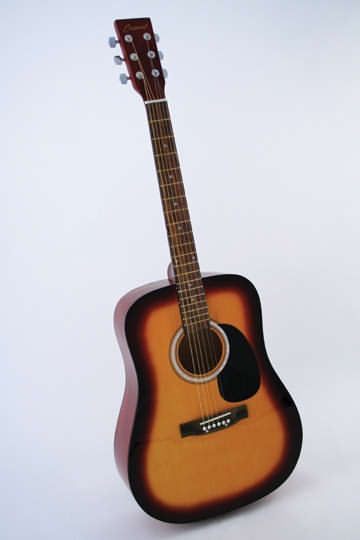guitar: (107, 17, 304, 526)
